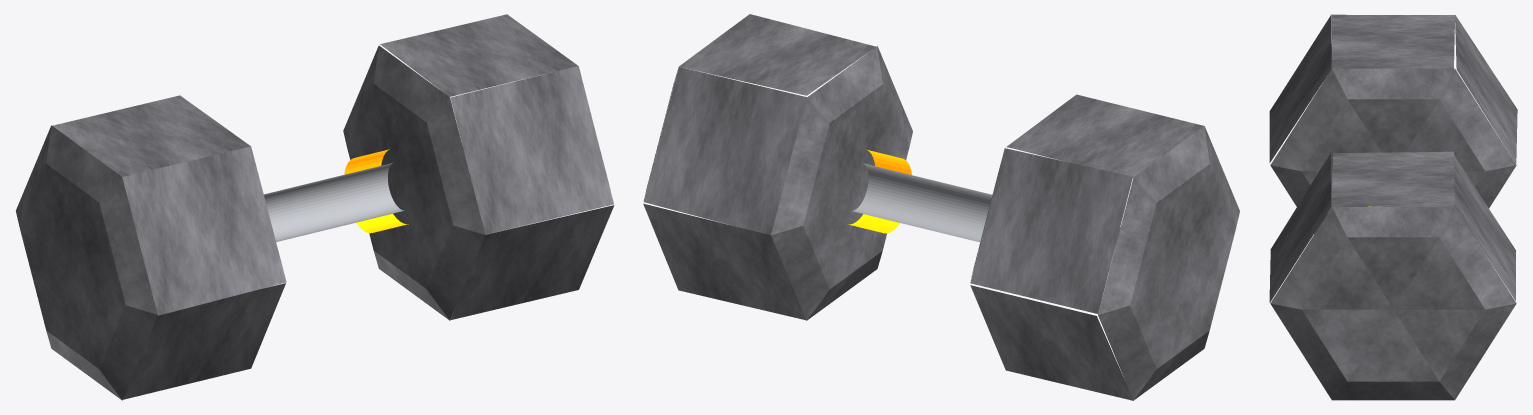
The model's file is dumbbellmodel.glb.
3 views of the same model, side by side, from view 1: azimuth 30°, elevation 25°; view 2: azimuth 150°, elevation 25°; view 3: azimuth 270°, elevation 25° (orthographic). The views are drawn at different scales.
Visible parts, largest first — view 1: head1_side, head0_side, head0_cap, head1_cap, bar, collar1; view 2: head1_side, head0_side, head0_cap, head1_cap, bar, collar1; view 3: head1_cap_1, head0_cap_1, head0_side, head1_side.
Boxes of the visible parts, bbox=[...] form: head1_side: bbox=[380, 14, 614, 320]; head0_side: bbox=[52, 95, 286, 399]; head0_cap: bbox=[16, 125, 157, 400]; head1_cap: bbox=[343, 45, 485, 320]; bar: bbox=[263, 146, 466, 241]; collar1: bbox=[344, 149, 408, 233]; head1_side: bbox=[643, 14, 875, 320]; head0_side: bbox=[970, 94, 1203, 400]; head0_cap: bbox=[1098, 126, 1239, 400]; head1_cap: bbox=[771, 46, 912, 320]; bar: bbox=[852, 163, 1120, 272]; collar1: bbox=[848, 149, 911, 233]; head1_cap_1: bbox=[1270, 207, 1516, 400]; head0_cap_1: bbox=[1270, 68, 1516, 234]; head0_side: bbox=[1269, 14, 1517, 163]; head1_side: bbox=[1269, 151, 1515, 302].
Bounding box in the file's own units: 3.4 × 1.52 × 1.75.
4 materials, 2 textured.
